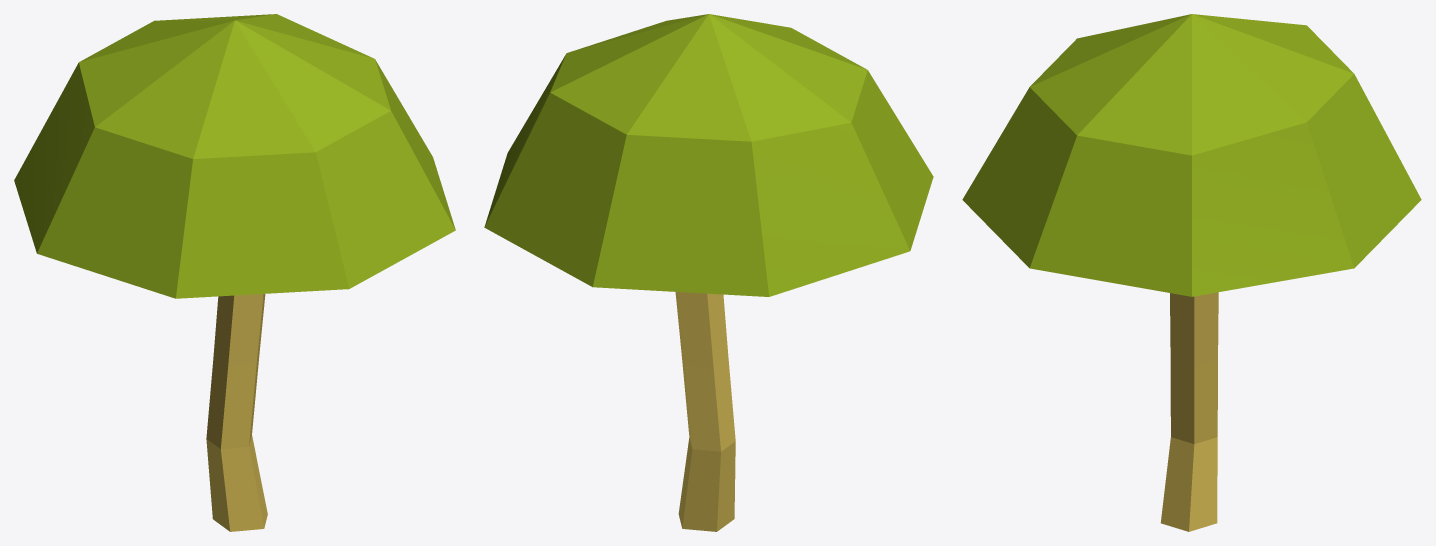
File: Mushroom_g_b_01.fbx
The picture shows the model from 3 angles, left to right: view 1: azimuth 30°, elevation 25°; view 2: azimuth 150°, elevation 25°; view 3: azimuth 270°, elevation 25°; orthographic projection.
Parts seen in each view (by area): view 1: Mushroom_g_b_01_LOD0; view 2: Mushroom_g_b_01_LOD0; view 3: Mushroom_g_b_01_LOD0.
Part boxes in pixels (<box>): Mushroom_g_b_01_LOD0: <box>14,14,455,531</box>; Mushroom_g_b_01_LOD0: <box>484,14,933,531</box>; Mushroom_g_b_01_LOD0: <box>962,14,1421,531</box>.
Size of what is drawn, in the model's own units: 3.42 by 4.13 by 3.42.
